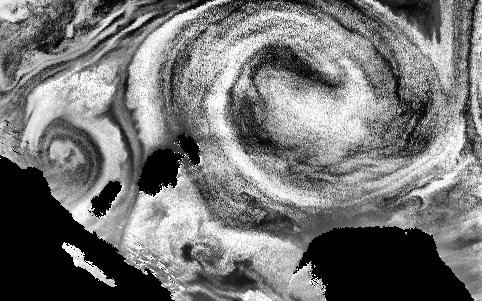AE: (199, 15, 441, 213)
CE: (37, 114, 106, 180)
